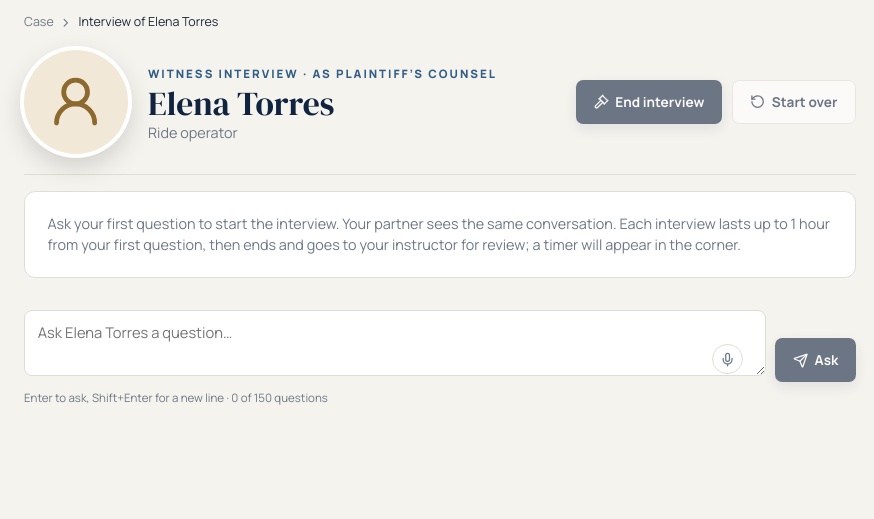
Test: InterviewPage › asks the team's interview questions and shows the answers
Expected: the heading "Elena Torres" is shown, [148,80,334,126]
Expected: the text "Witness interview · As plaintiff’s counsel" is shown, [148,66,497,81]
Type "Where were you?" into the text box named "Your question" at point(395, 343), box [24,310,766,376]
Then press Enter
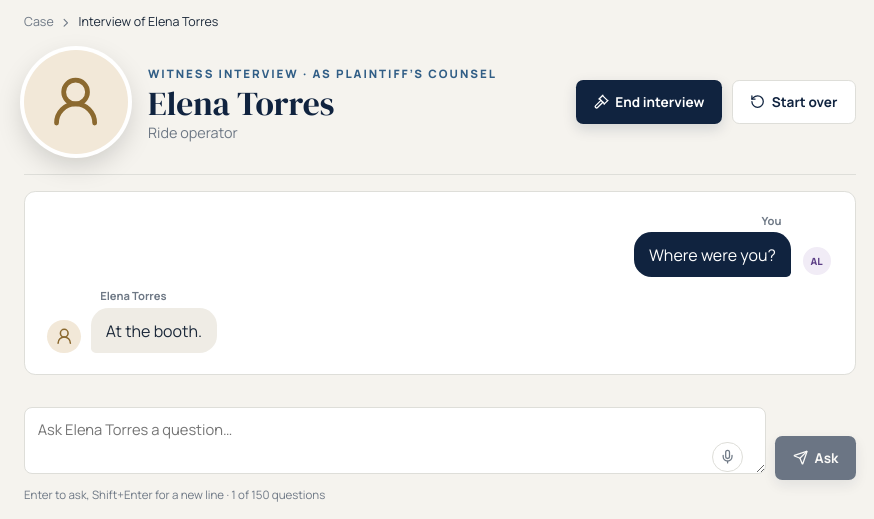
Expected: the text box named "Your question" is empty, [24,407,766,474]
Expected: the text "At the booth." is shown, [106,319,202,343]
